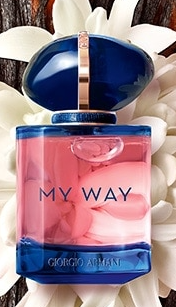armani_my_way_floral: (11, 29, 154, 284)
